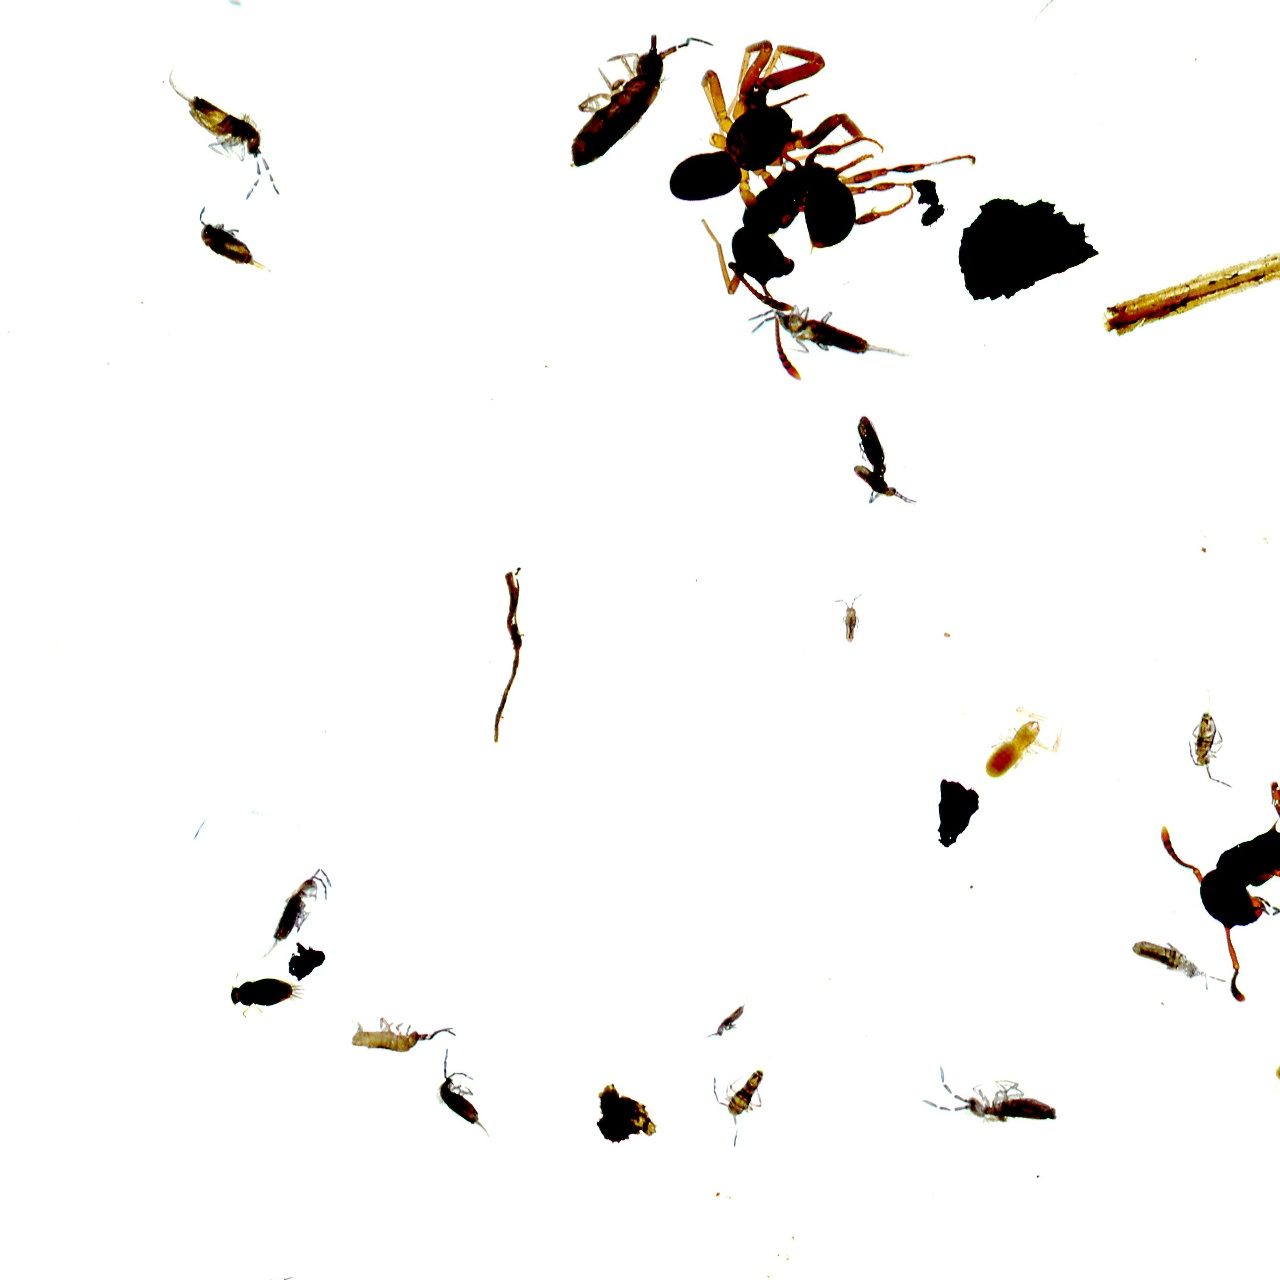arthropod: (696, 111, 980, 382), (1090, 669, 1280, 1028), (667, 19, 863, 211), (542, 0, 722, 202), (738, 282, 922, 386), (164, 62, 287, 205), (965, 693, 1075, 804), (254, 853, 343, 973), (920, 1063, 1062, 1128), (1123, 928, 1235, 999), (833, 408, 907, 505), (425, 1043, 499, 1139), (196, 204, 280, 284), (845, 450, 925, 527), (338, 1010, 463, 1057), (225, 968, 312, 1024), (712, 1063, 767, 1149), (1186, 707, 1235, 795), (824, 588, 873, 645), (704, 994, 750, 1040), (236, 1268, 355, 1280), (1267, 878, 1280, 933)
